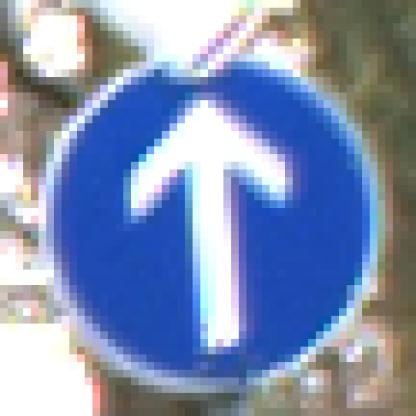AheadOnly: (40, 39, 379, 371)
